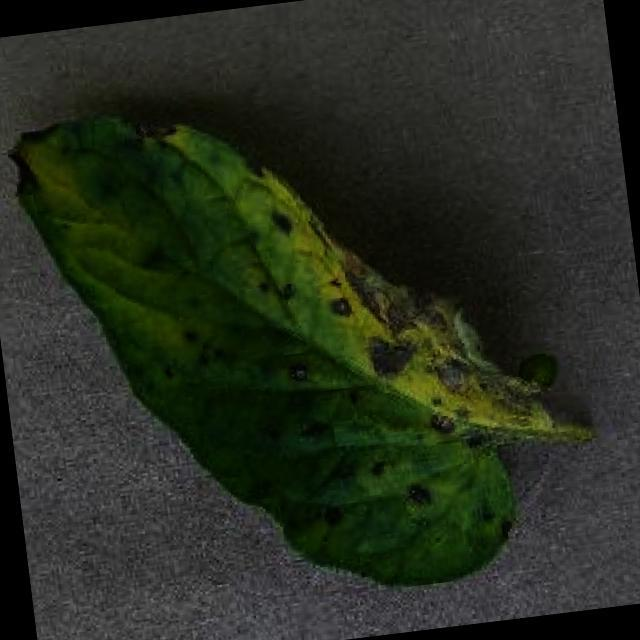Tomato Early blight leaf: (3, 59, 590, 626)
